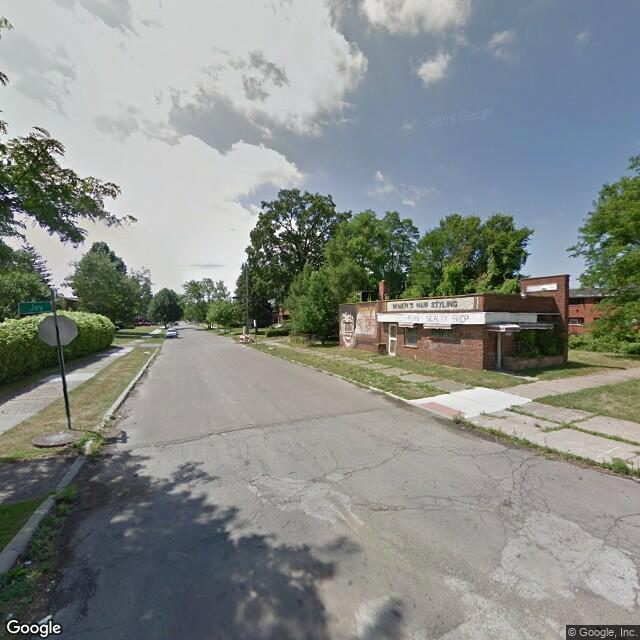litter: (20, 555, 36, 567), (35, 614, 54, 624), (139, 348, 154, 360), (3, 610, 15, 621)
